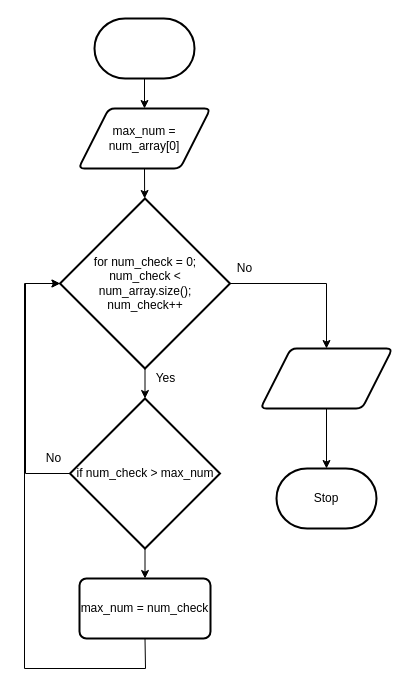
Image size: 411x694. Some labels were removed from this diagram. Each missing label, with the centre of its shape:
"return max_num" belongs at (326,378).
"Start" belongs at (144,48).
